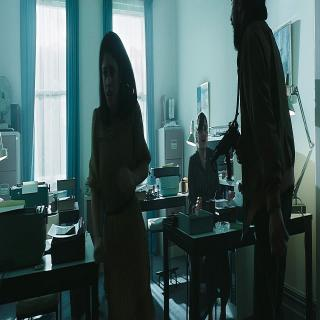gun: (210, 117, 244, 182)
